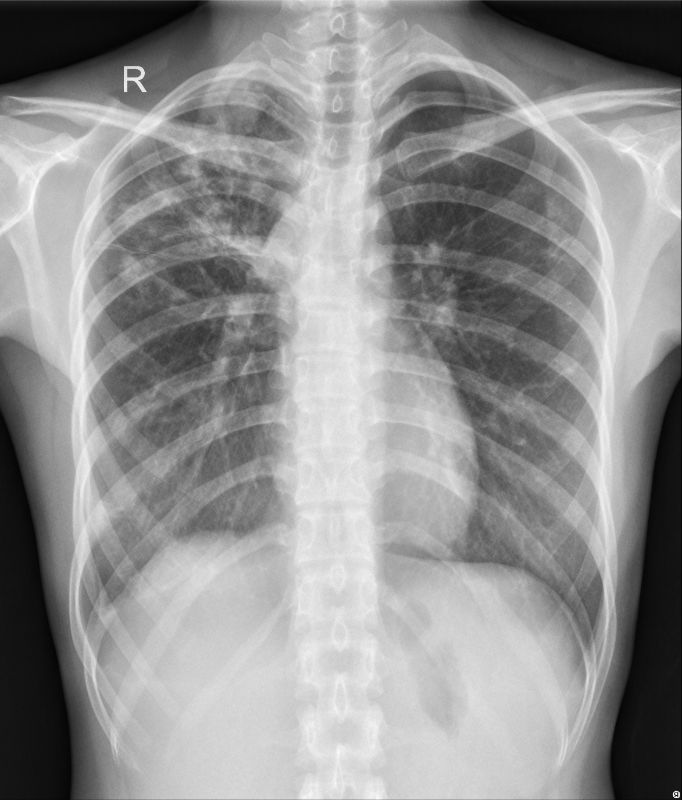Tuberculosis (TB): (122, 116, 256, 311)
